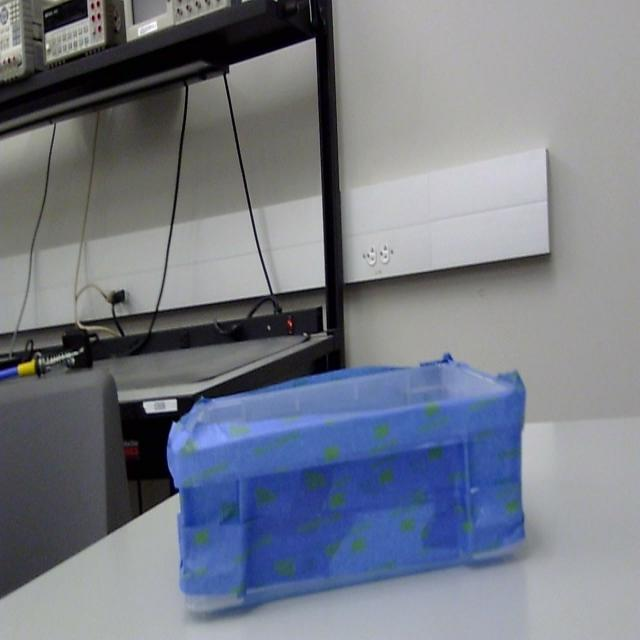bucket: (164, 346, 530, 621)
